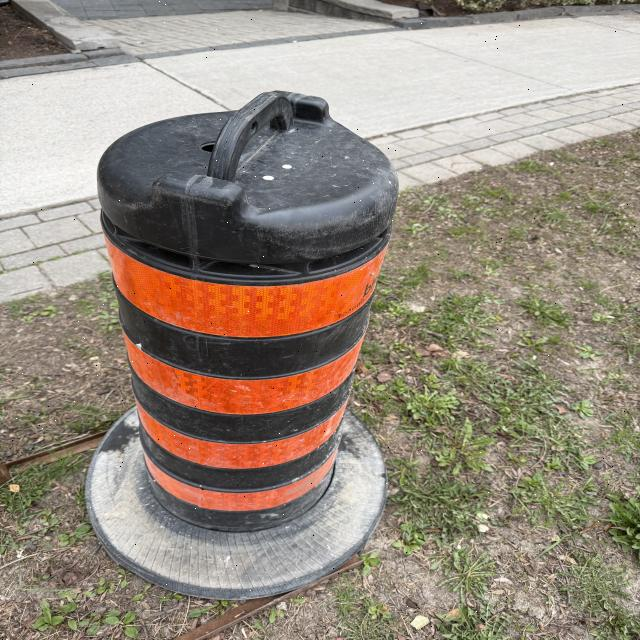Teraffic Barrel: (87, 92, 398, 597)
